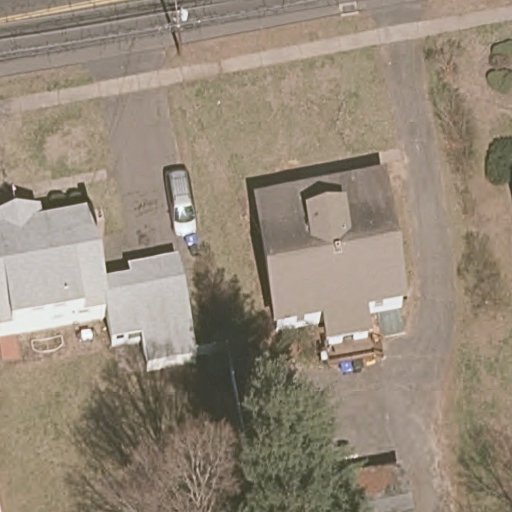DT: (169, 1, 190, 55)
